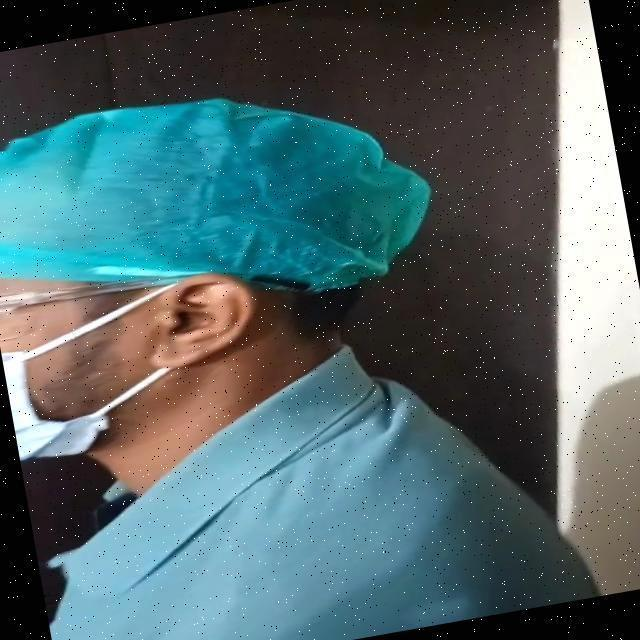gloves: (1, 118, 447, 316)
